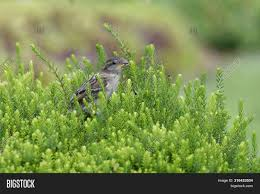hsparrow: (56, 55, 131, 120)
